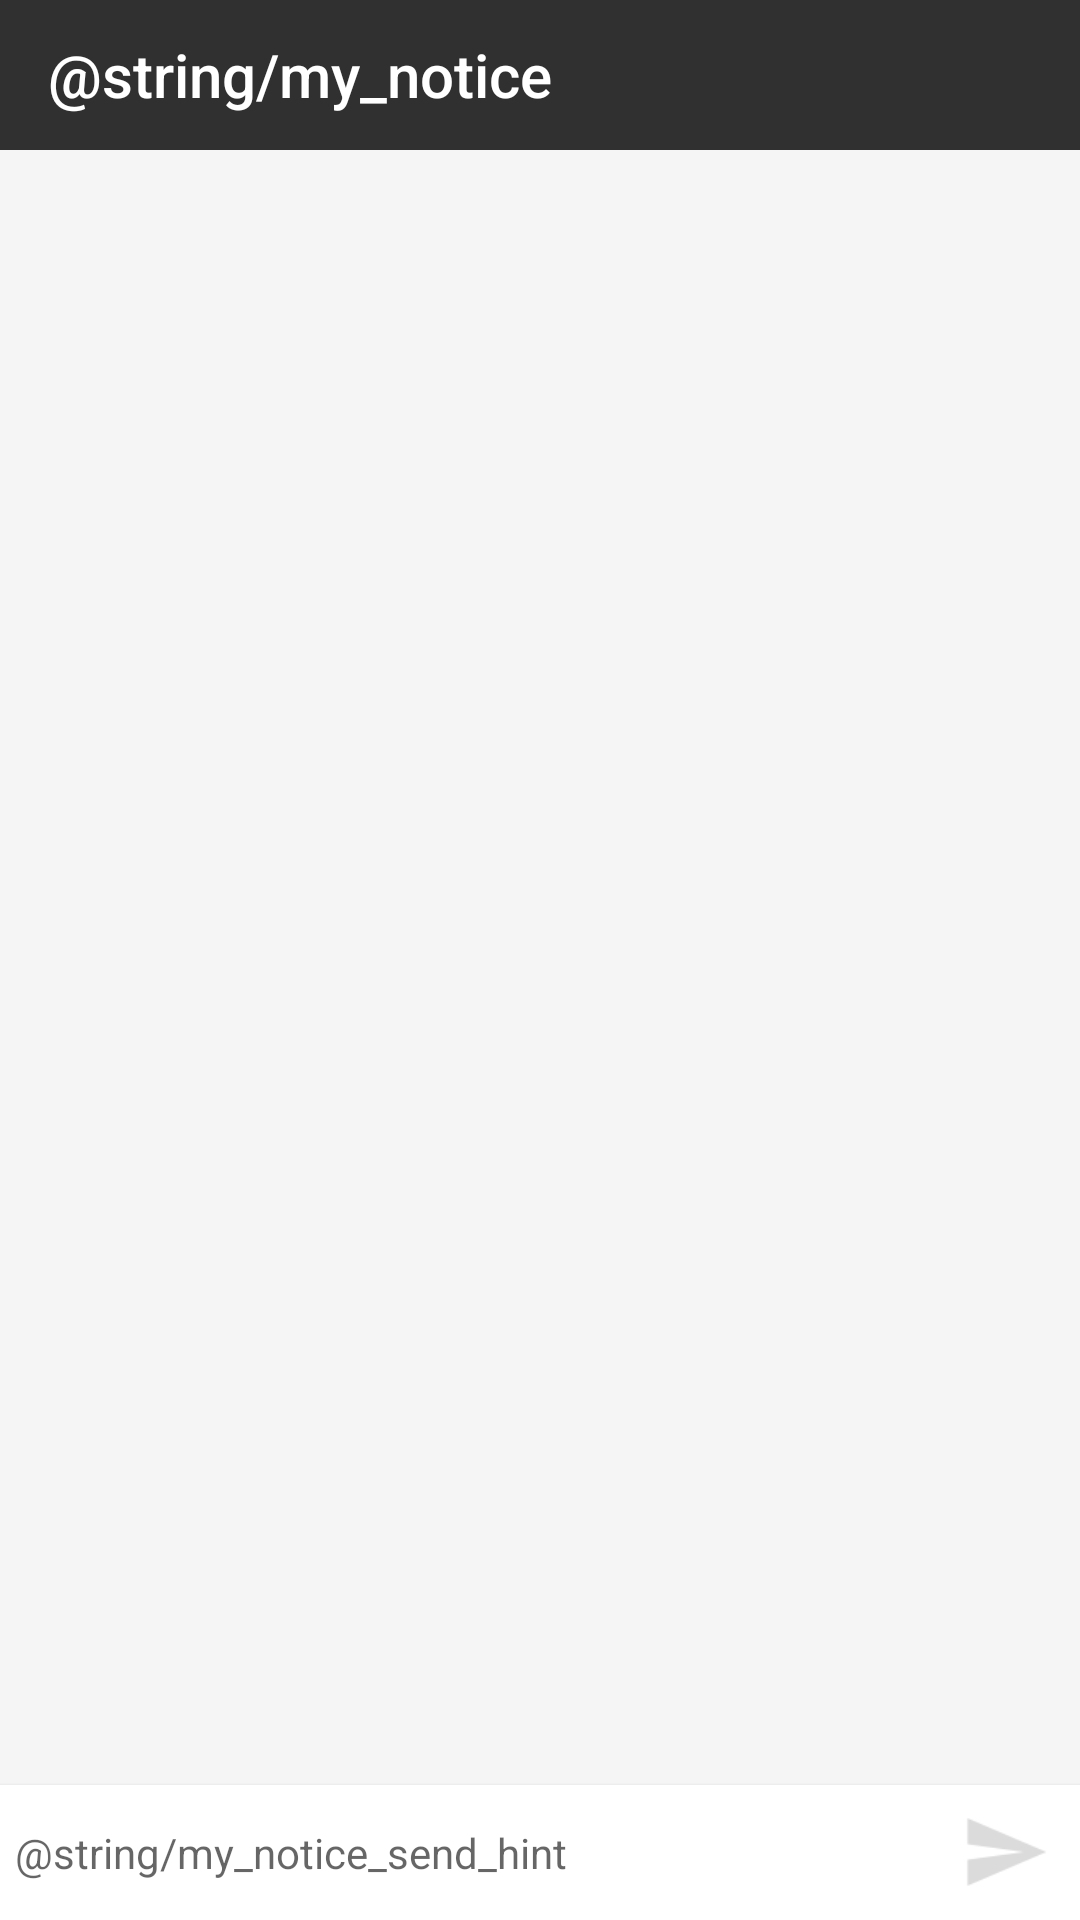

Named icons in this screenshot (1080px x 1920px) and their bounding boxes, detection(x1, y1, x2, y2):
send: detection(968, 1820, 1044, 1884)
